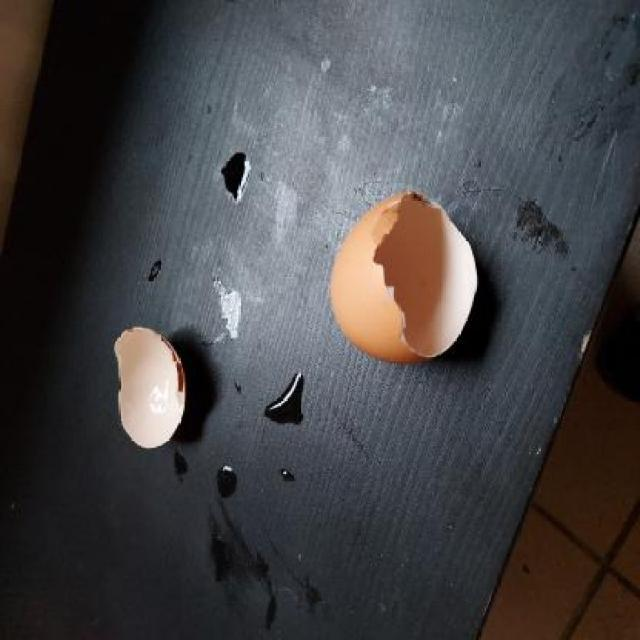biodegradable: (322, 185, 488, 381), (111, 325, 195, 453)
